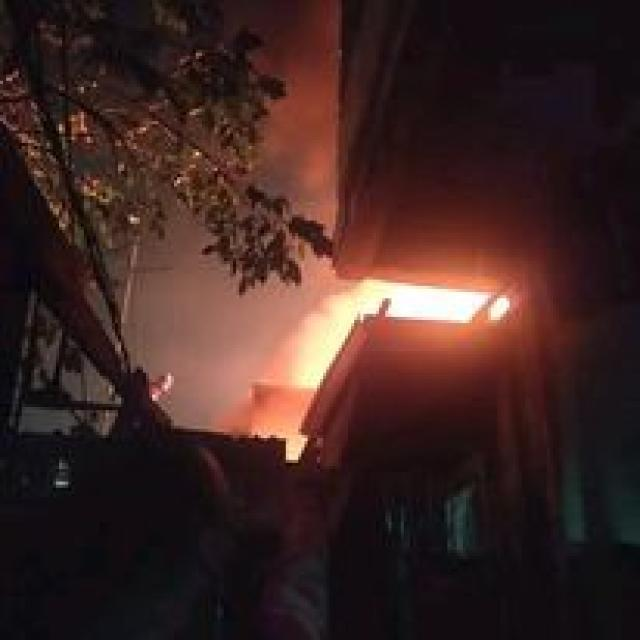Fire: (333, 280, 512, 328)
Smoke: (272, 32, 333, 266), (290, 308, 358, 376)
